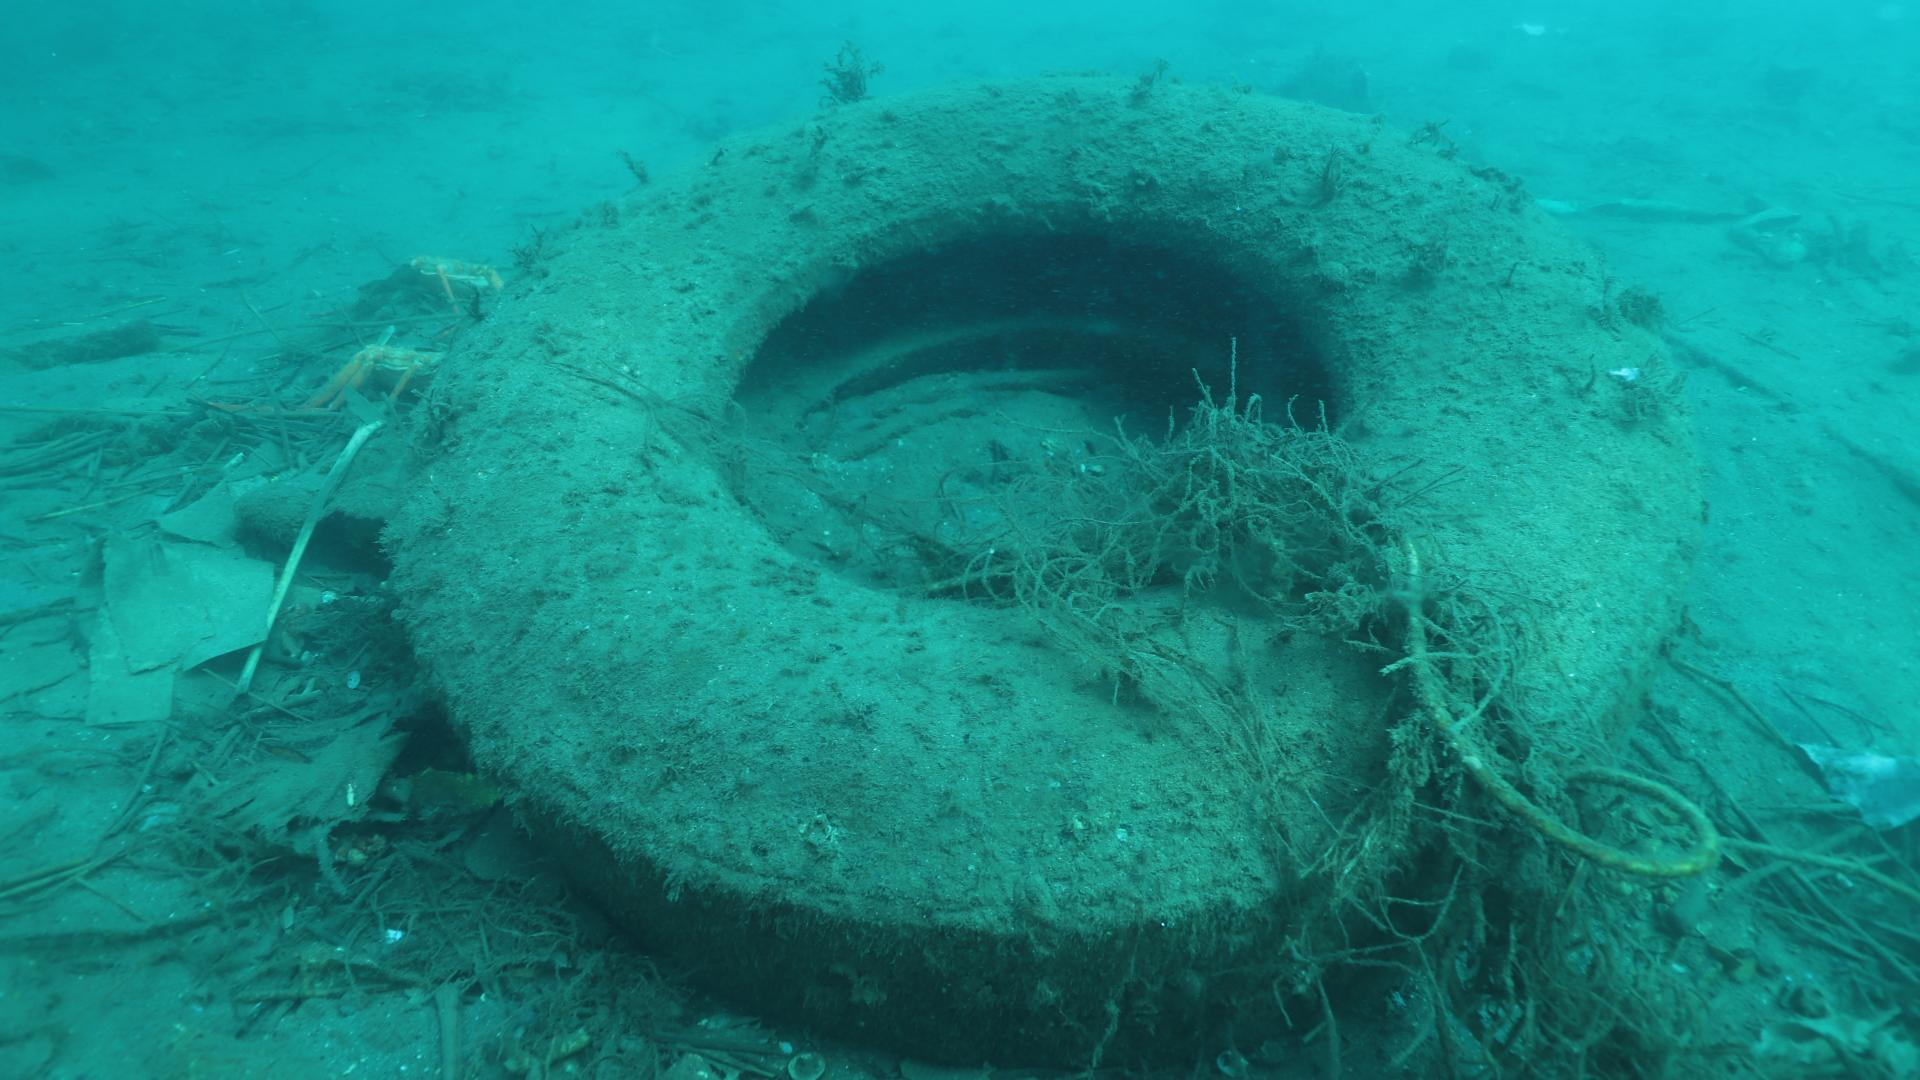tire: (382, 73, 1706, 1058)
